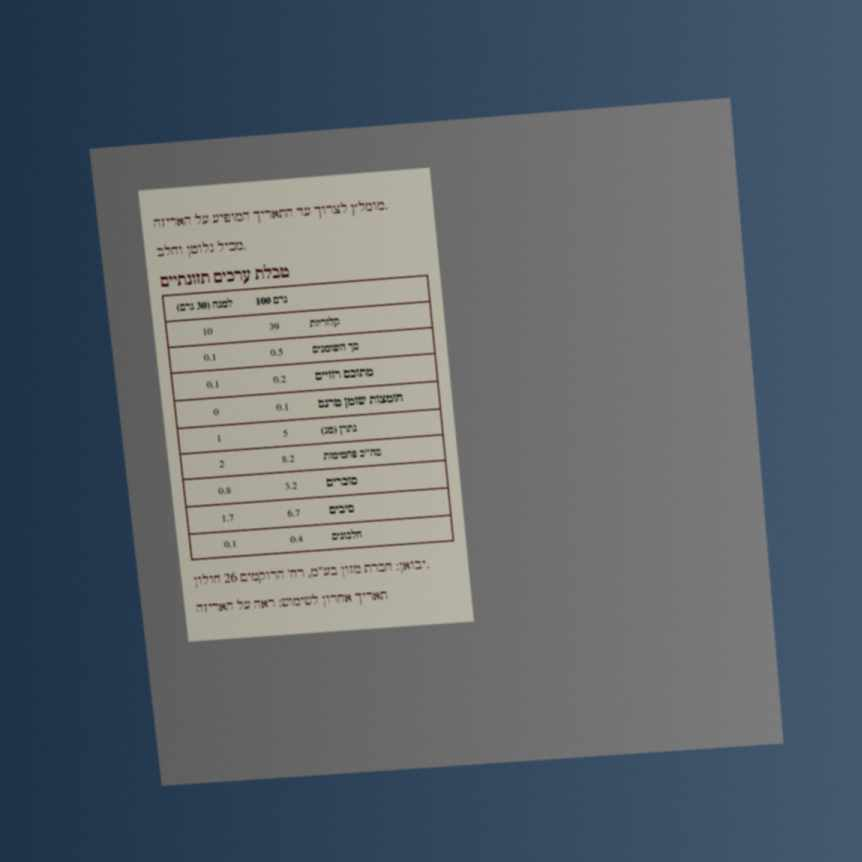carbs: (280, 452, 296, 466)
energy: (267, 320, 281, 333)
fat: (269, 345, 285, 359)
protein: (288, 532, 305, 546)
